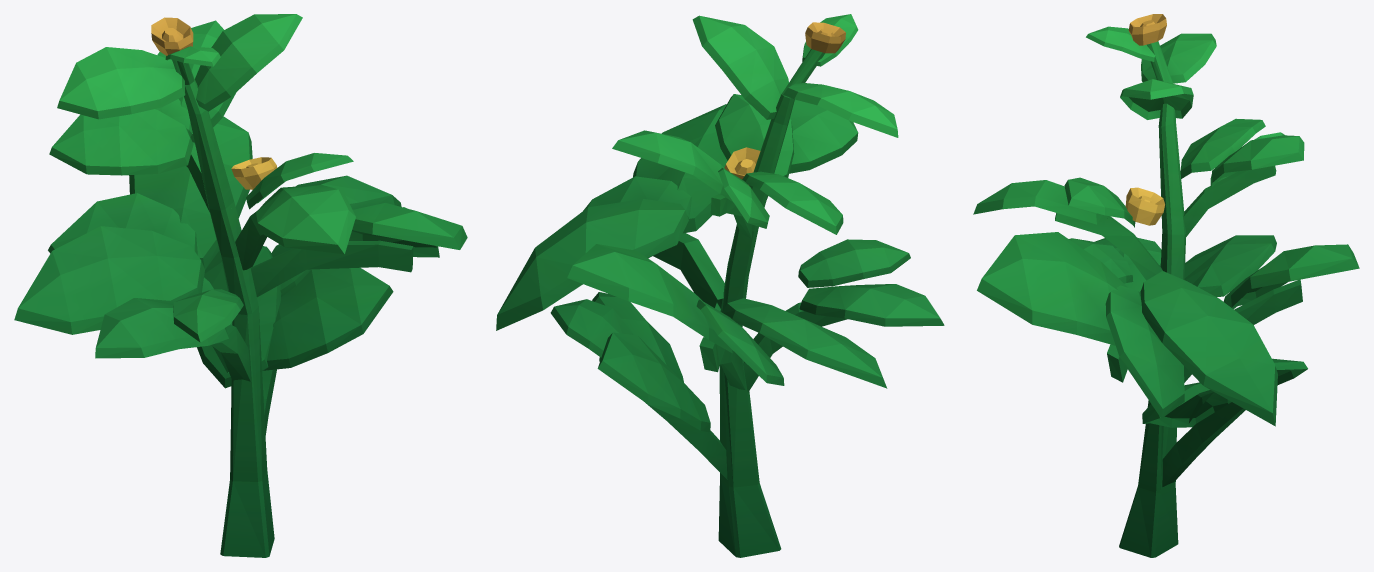
The model's file is crop_potato_stage2.glb.
3 renders of one model, left to right at view 1: azimuth 30°, elevation 25°; view 2: azimuth 150°, elevation 25°; view 3: azimuth 270°, elevation 25°, orthographic. The views are drawn at different scales.
Visible parts, largest first — view 1: crop_potato_stage2; view 2: crop_potato_stage2; view 3: crop_potato_stage2.
Part boxes in pixels (<box>): crop_potato_stage2: <box>14,14,467,557</box>; crop_potato_stage2: <box>496,14,944,557</box>; crop_potato_stage2: <box>973,14,1359,557</box>.
Size of the model in its own units: 0.2536 by 0.34 by 0.241.
1 material, 1 textured.
